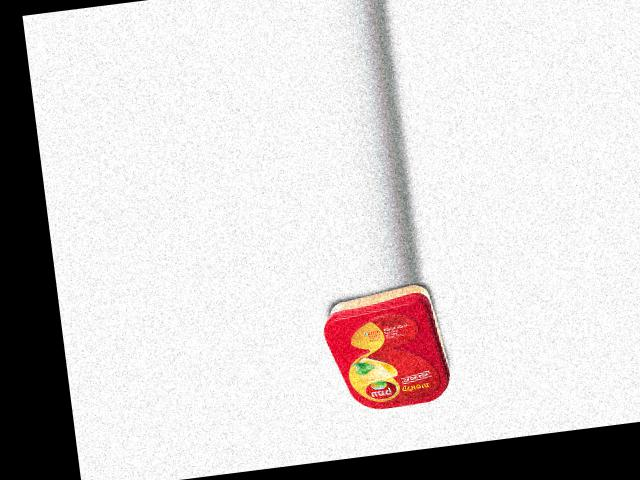cheese: (319, 281, 453, 415)
